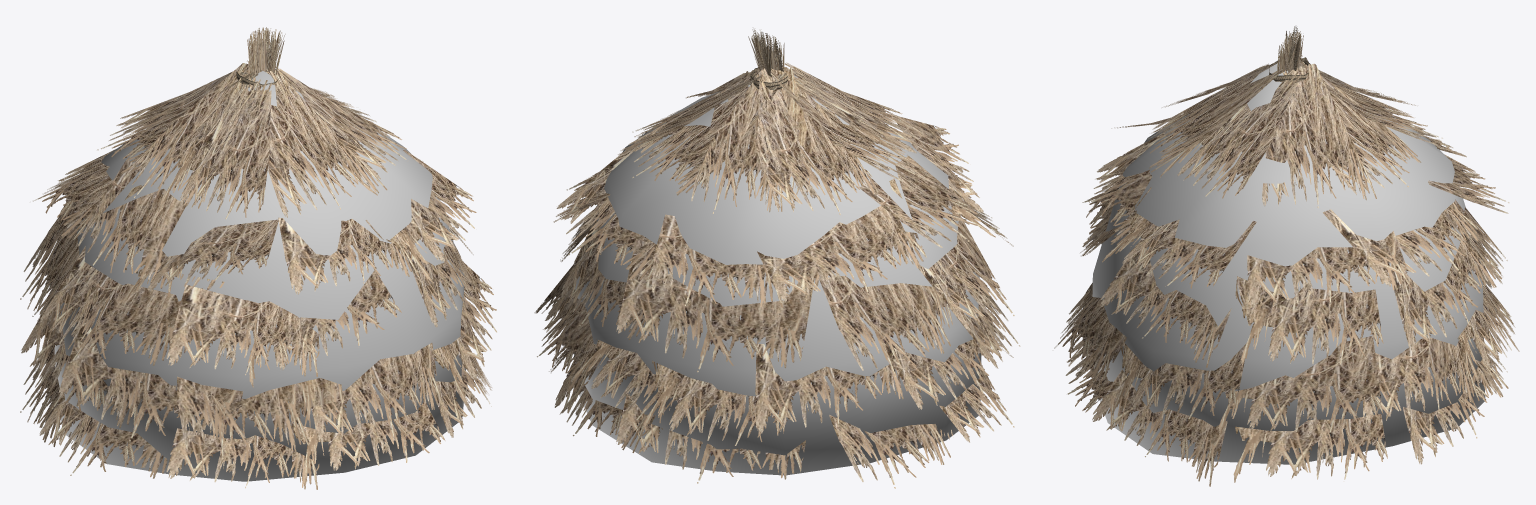
File: jov_rice_rag05.fbx
3 views of the same model, side by side, from view 1: azimuth 30°, elevation 25°; view 2: azimuth 150°, elevation 25°; view 3: azimuth 270°, elevation 25° (orthographic).
Parts seen in each view (by area): view 1: jov_rice_rag05; view 2: jov_rice_rag05; view 3: jov_rice_rag05.
Part boxes in pixels (x1,y1,x2,y2): jov_rice_rag05: (20,27,496,489); jov_rice_rag05: (534,29,1020,488); jov_rice_rag05: (1054,26,1519,486).
Bounding box in the file's own units: 161 × 141 × 155.
